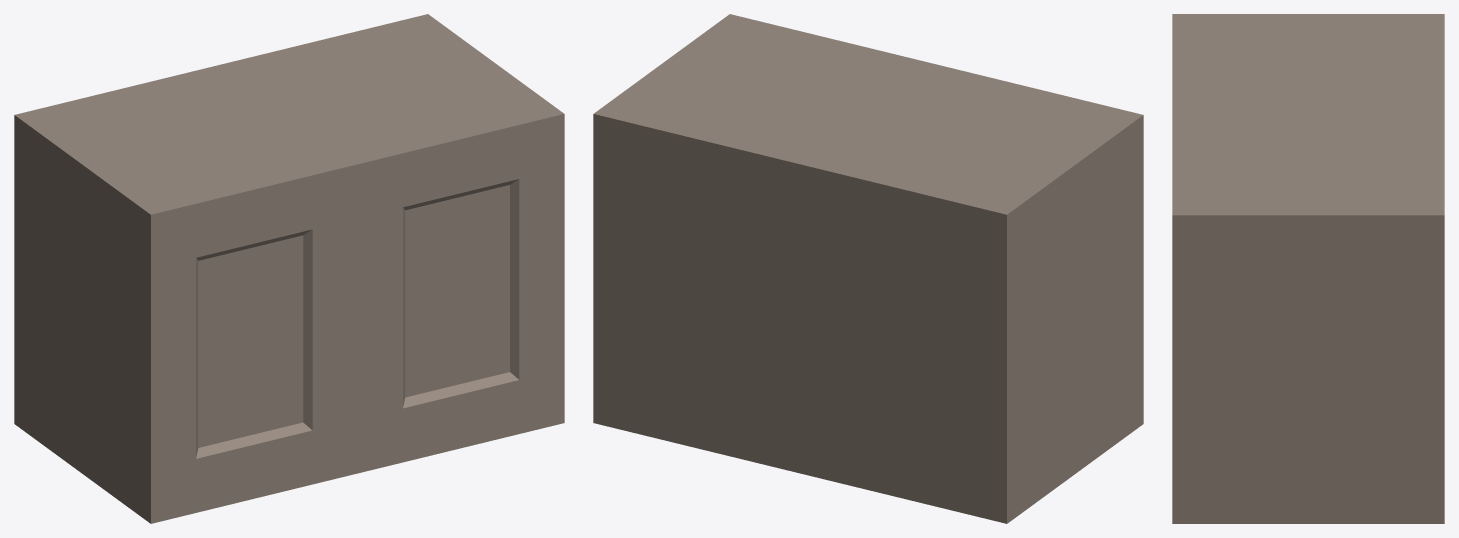
The model's file is 12-15-High-12-Deep_std_001_W21in_1D.glb.
3 renders of one model, left to right at view 1: azimuth 30°, elevation 25°; view 2: azimuth 150°, elevation 25°; view 3: azimuth 270°, elevation 25°, orthographic.
Visible parts, largest first — view 1: 12-15-High-12-Deep.std.001_W21in_1D; view 2: 12-15-High-12-Deep.std.001_W21in_1D; view 3: 12-15-High-12-Deep.std.001_W21in_1D.
Boxes of the visible parts, left/top/right/bottom form: 12-15-High-12-Deep.std.001_W21in_1D: left=14, top=14, right=564, bottom=523; 12-15-High-12-Deep.std.001_W21in_1D: left=593, top=14, right=1143, bottom=523; 12-15-High-12-Deep.std.001_W21in_1D: left=1172, top=14, right=1444, bottom=523.
Size of the model in its own units: 0.5334 by 0.381 by 0.3048.
